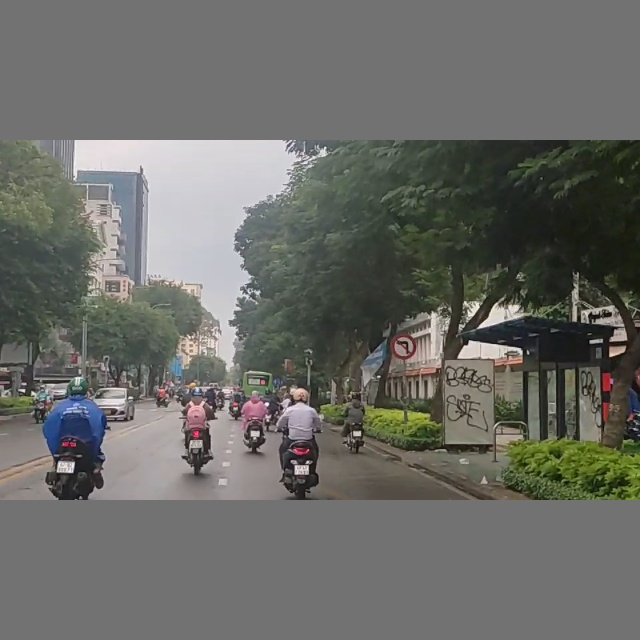P.123a: (393, 336, 416, 359)
